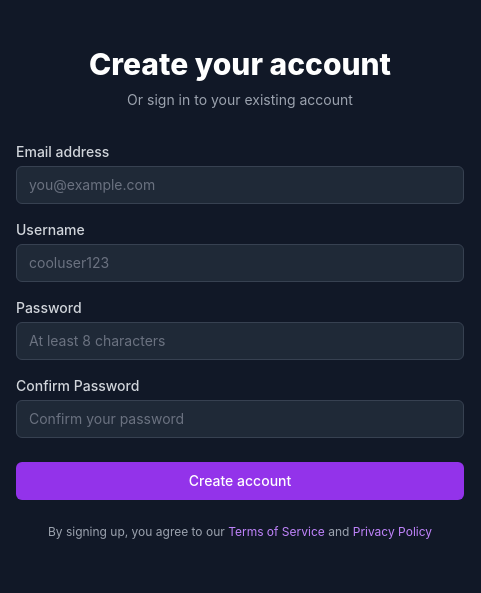
it: SignUp Component › validates password match
This screenshot has width=481, height=593.
Type "test@example.com" into the field with placeholder "you@example.com" at {"x": 240, "y": 185}, box [16,166,464,204]
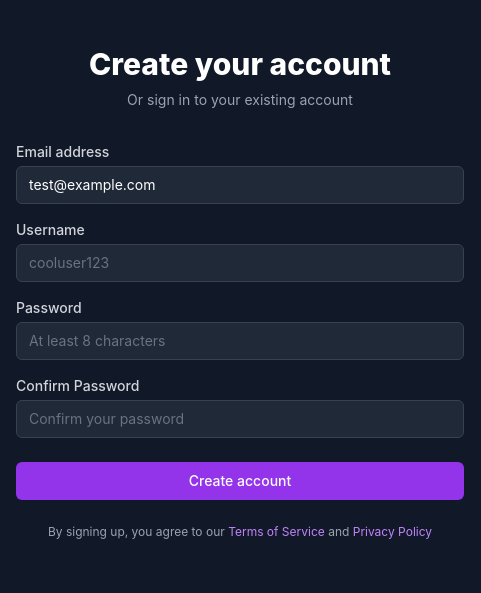
Type "testuser" into the field with placeholder "cooluser123" at {"x": 240, "y": 263}, box [16,244,464,282]
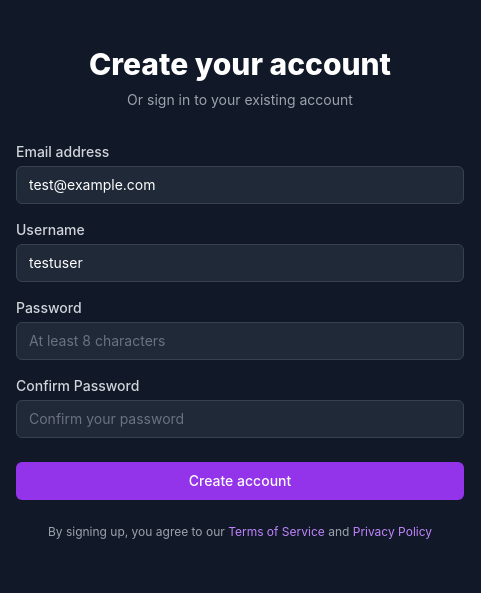
Type "password123" into the password field with placeholder "At least 8 characters" at {"x": 240, "y": 341}, box [16,322,464,360]
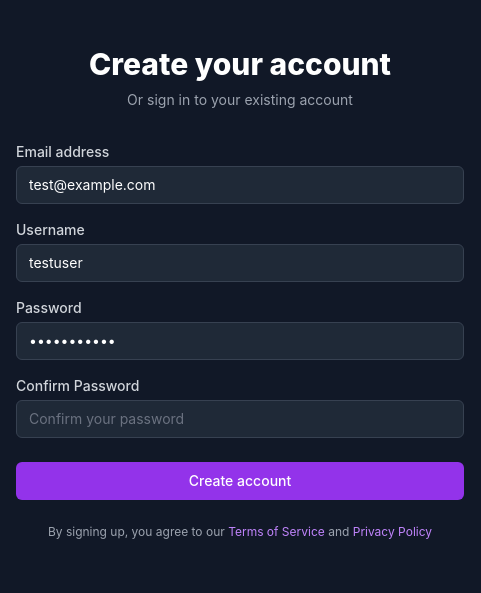
Type "password456" into the password field with placeholder "Confirm your password" at {"x": 240, "y": 419}, box [16,400,464,438]
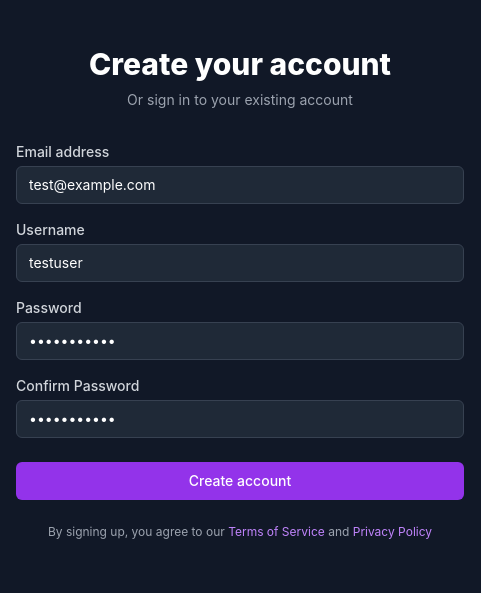
Click the button "Create account" at {"x": 240, "y": 481}, box [16,462,464,500]
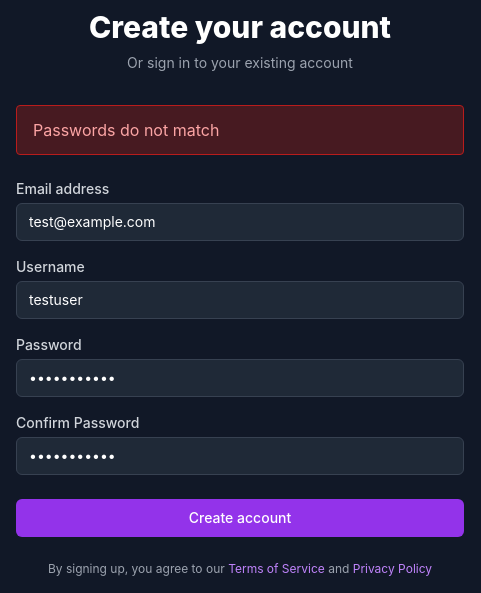
Expected: the text "Passwords do not match" is shown, [16,105,464,155]
